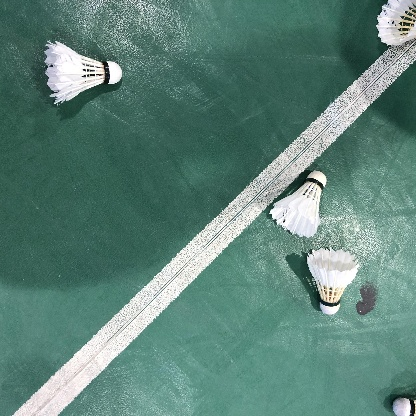ball_single: (44, 41, 122, 104), (269, 171, 327, 238), (307, 247, 360, 314), (376, 0, 416, 46), (392, 398, 416, 416)
